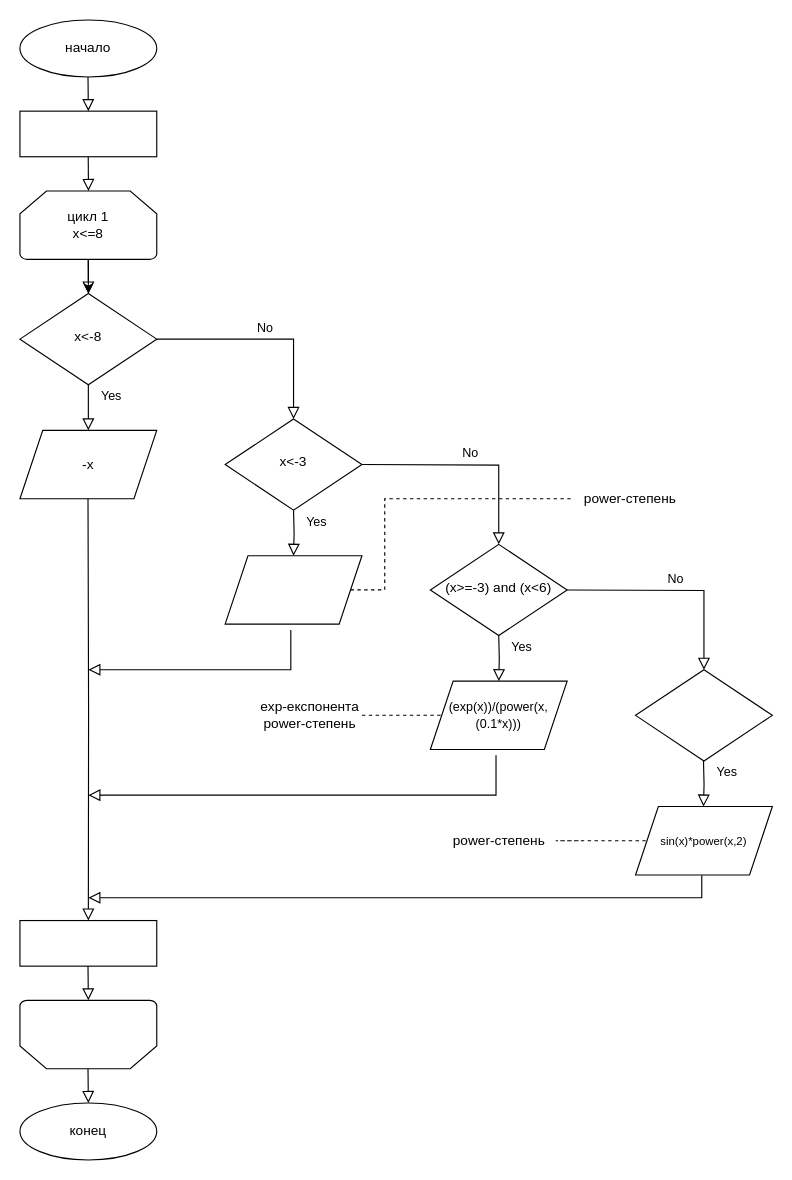
This 792x1180 diagram has some shape labels left out. Each missing label, with the centre of its shape:
"((power(x,2))/(log(x)-sin(x)))/3" goes at point (293, 589).
"x:=x+0.2" goes at point (88, 942).
"x=-10" goes at point (88, 133).
"x>=6" goes at point (703, 715).
"цикл 1" goes at point (88, 1034).
